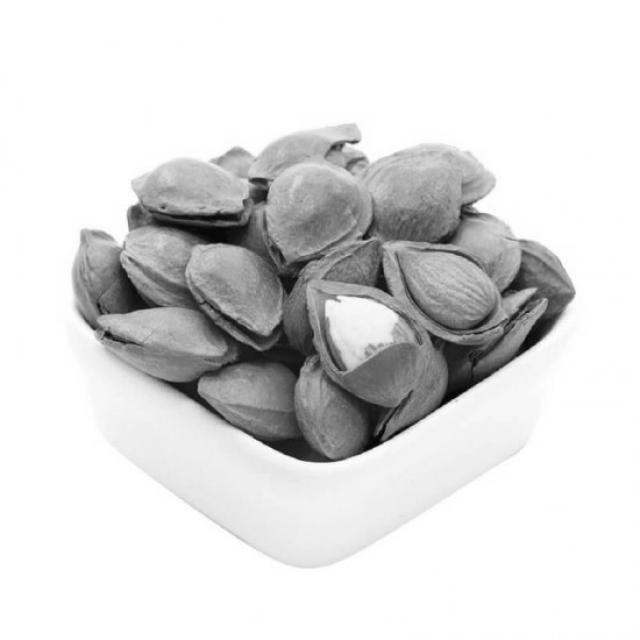Kayisi Cekirdegi: (262, 166, 383, 273), (190, 243, 292, 355), (100, 313, 245, 387), (394, 251, 495, 333)
